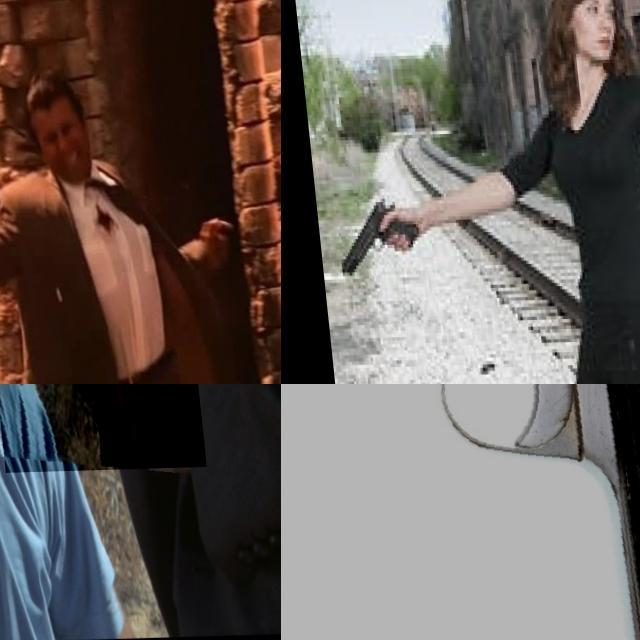gun-knife-thesis - v11 Yolov5 augmented: (281, 384, 640, 640), (0, 384, 196, 532), (0, 114, 65, 266), (320, 195, 417, 283)
